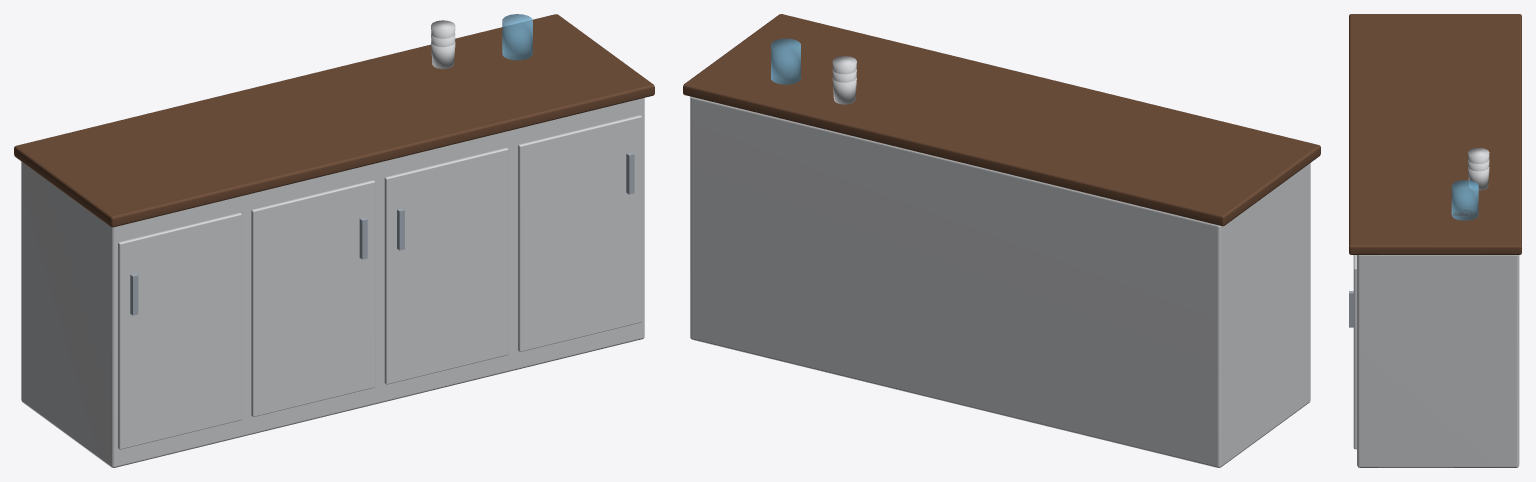
File: Counter.fbx
The picture shows the model from 3 angles, left to right: view 1: azimuth 30°, elevation 25°; view 2: azimuth 150°, elevation 25°; view 3: azimuth 270°, elevation 25°; orthographic projection. The views are drawn at different scales.
Visible parts, largest first — view 1: Top.003, Cabinet, Door.001, Door.002, Door, Door.003, SugarJar; view 2: Cabinet, Top.003, SugarJar; view 3: Top.003, Cabinet, SugarJar, Door.003, Cup.001, Cup.003.
Part boxes in pixels (left/top/right/bottom): Top.003: left=14, top=14, right=654, bottom=227; Cabinet: left=21, top=98, right=644, bottom=467; Door.001: left=251, top=180, right=375, bottom=416; Door.002: left=384, top=147, right=508, bottom=384; Door: left=118, top=213, right=241, bottom=449; Door.003: left=518, top=115, right=641, bottom=351; SugarJar: left=502, top=14, right=532, bottom=60; Cabinet: left=690, top=96, right=1310, bottom=467; Top.003: left=683, top=14, right=1320, bottom=226; SugarJar: left=771, top=38, right=800, bottom=84; Top.003: left=1349, top=14, right=1521, bottom=254; Cabinet: left=1357, top=255, right=1519, bottom=467; SugarJar: left=1451, top=180, right=1478, bottom=220; Door.003: left=1353, top=255, right=1356, bottom=449; Cup.001: left=1468, top=167, right=1489, bottom=190; Cup.003: left=1468, top=148, right=1489, bottom=163.
Size of the model in its own units: 2.04 by 1.06 by 0.64.
